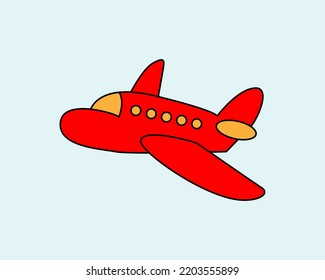airplane: (58, 58, 267, 201)
